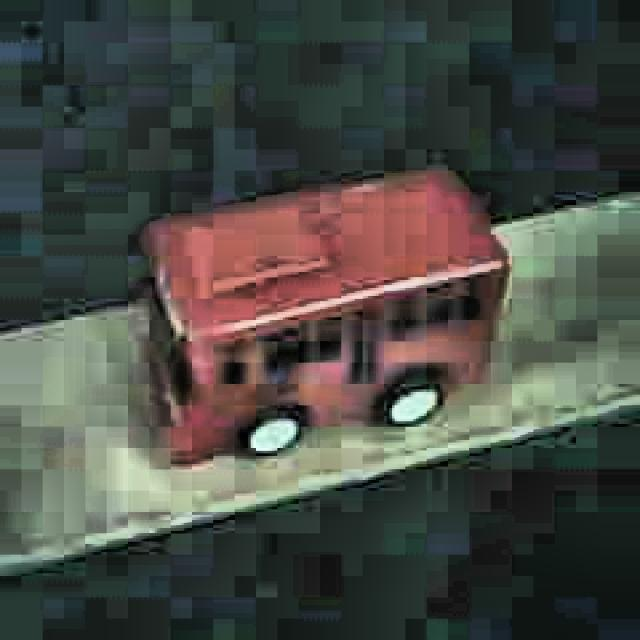bus: (144, 160, 512, 471)
